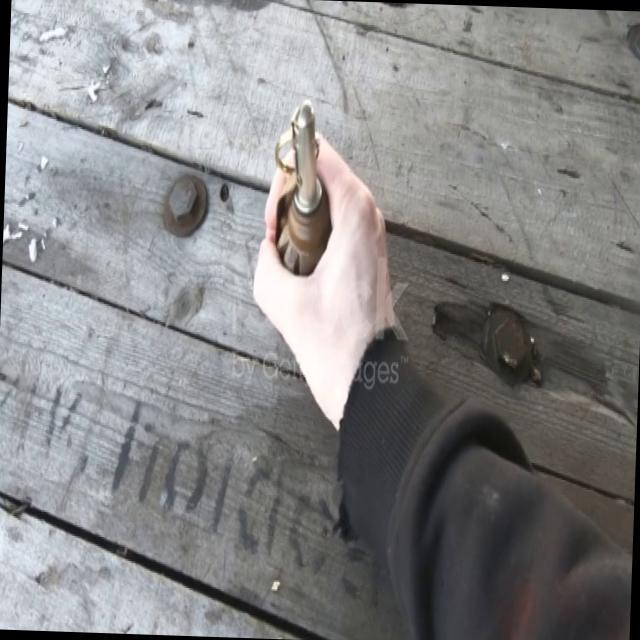grenade: (270, 96, 334, 276)
